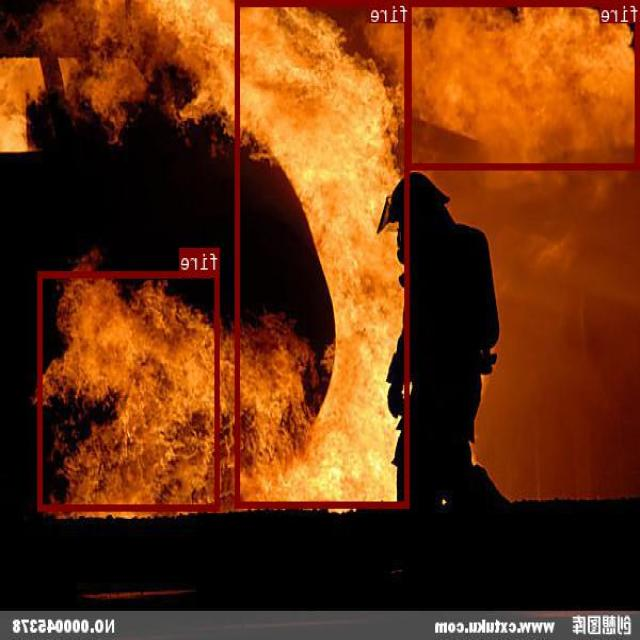fire: (235, 0, 410, 506), (39, 271, 221, 509), (407, 0, 640, 169)
